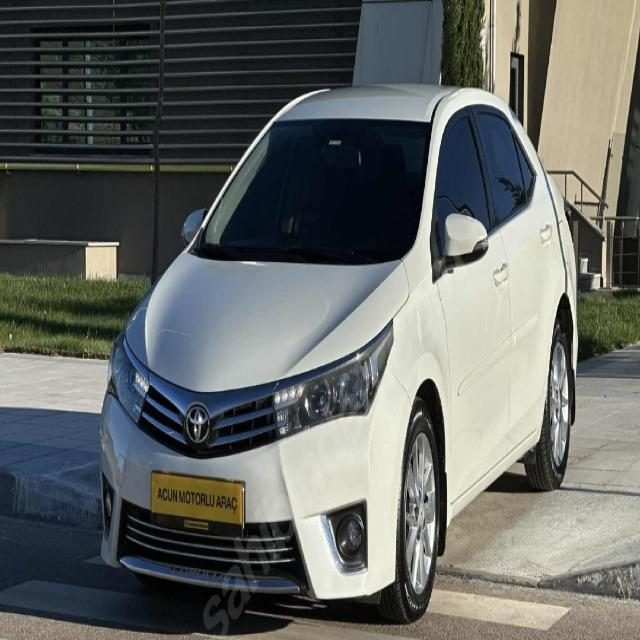toyota: (184, 400, 213, 448)
